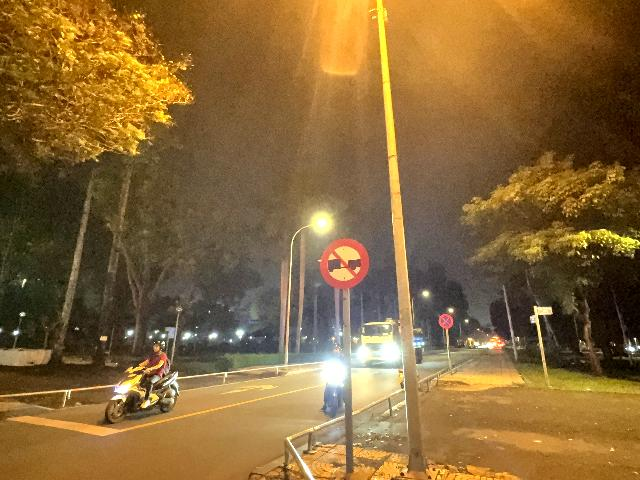cam-xe-somi-romooc: (320, 238, 370, 289)
